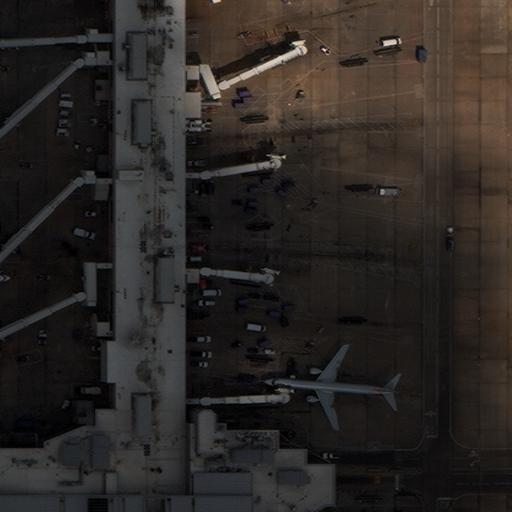Medium Civil Transport: (261, 344, 403, 431)
